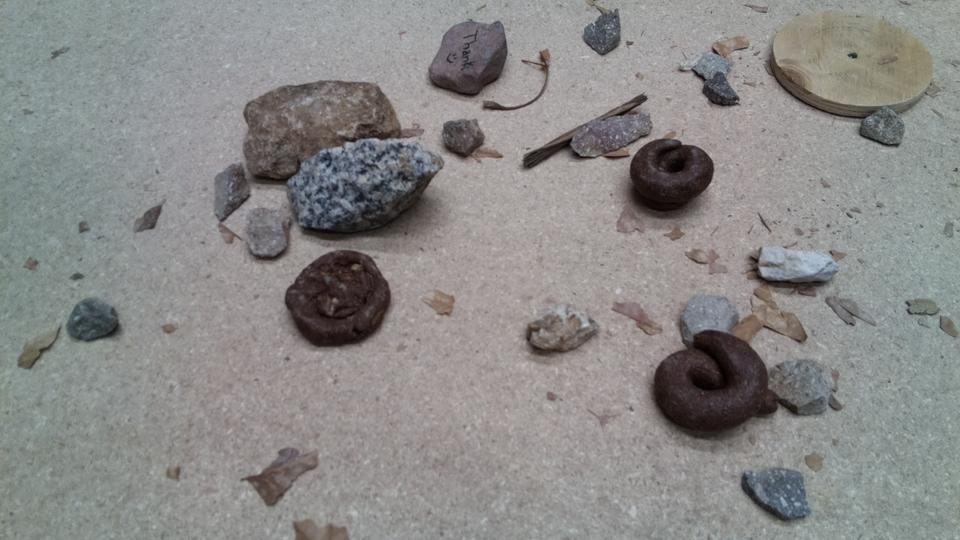poop: (651, 328, 773, 435), (283, 246, 392, 350), (627, 135, 713, 211)
